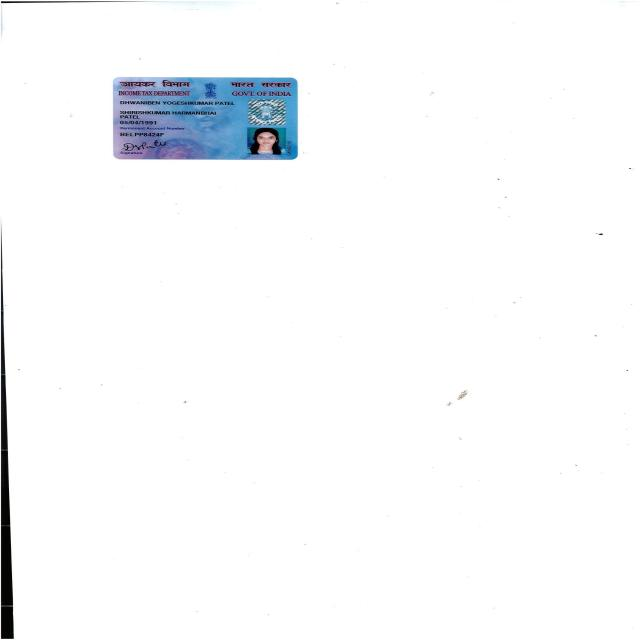pan_card: (112, 77, 296, 157)
